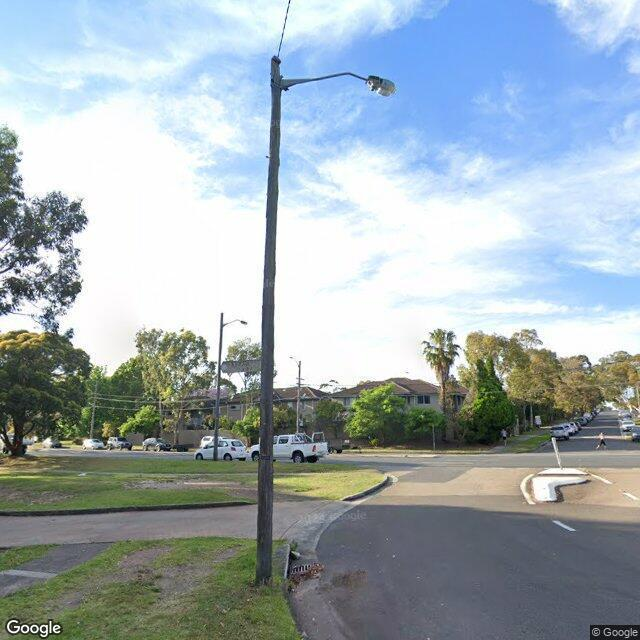crossarm: (296, 383, 305, 385), (296, 378, 304, 380)
streetlight: (279, 71, 397, 98), (220, 319, 249, 327), (288, 356, 300, 366)
timber-pole: (255, 55, 282, 586), (212, 314, 225, 462), (90, 382, 97, 439), (297, 361, 301, 434)
